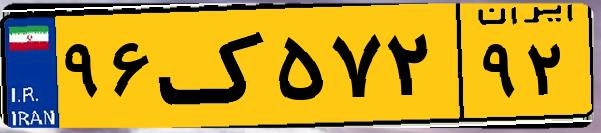2: (385, 28, 445, 110), (525, 38, 570, 115)
5: (270, 28, 330, 110)
6: (110, 28, 158, 98)
7: (330, 28, 385, 110)
9: (57, 26, 110, 100), (475, 38, 525, 113)
ک: (158, 12, 270, 120)
